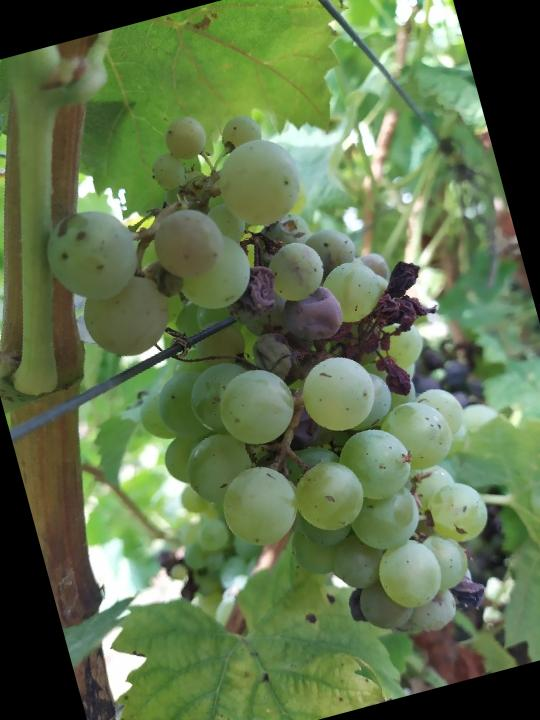grape: (18, 63, 522, 707)
